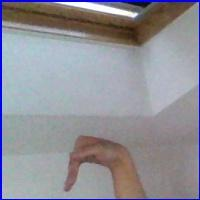del: (56, 132, 135, 196)
